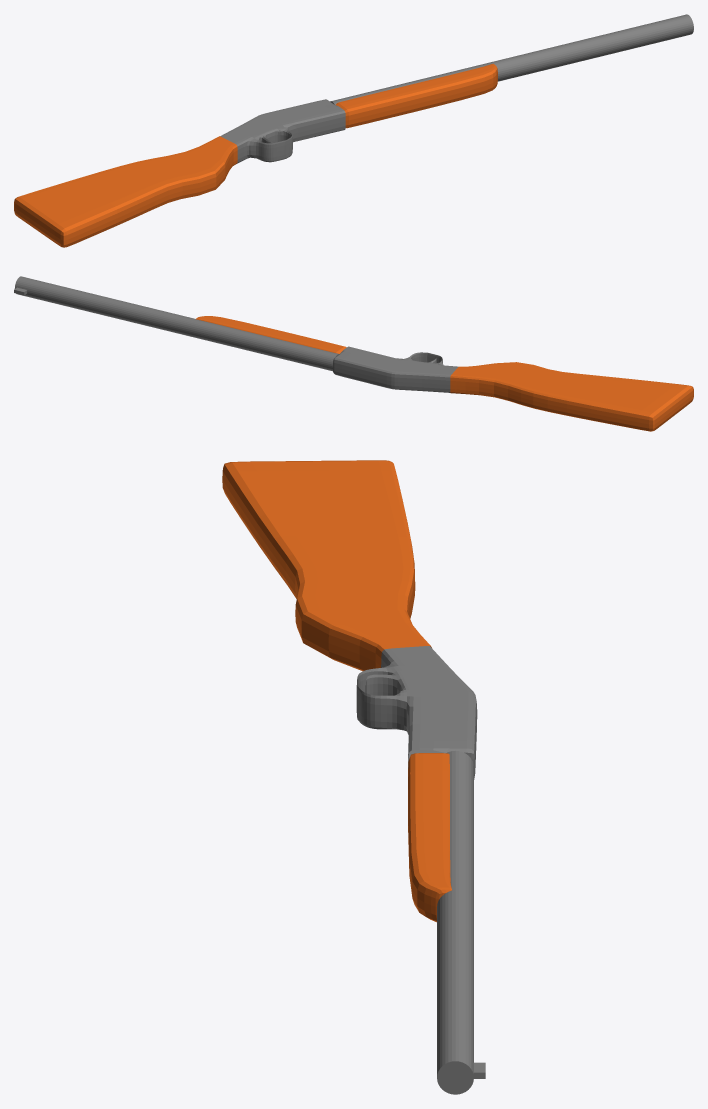
File: kivääri2_ready.fbx
The picture shows the model from 3 angles, top to bottom: view 1: azimuth 30°, elevation 25°; view 2: azimuth 150°, elevation 25°; view 3: azimuth 270°, elevation 25°; orthographic projection. The views are drawn at different scales.
Visible parts, largest first — view 1: Cube.004, Circle.001, Cube, Cube.003; view 2: Cube.004, Circle.001, Cube, Cube.003; view 3: Cube.004, Circle.001, Cube, Cube.003.
Part boxes in pixels (x1=…): Cube.004: x1=14, y1=136, x2=237, y2=247; Circle.001: x1=330, y1=14, x2=693, y2=104; Cube: x1=220, y1=99, x2=345, y2=163; Cube.003: x1=335, y1=63, x2=497, y2=128; Cube.004: x1=450, y1=362, x2=693, y2=431; Circle.001: x1=14, y1=276, x2=339, y2=371; Cube: x1=333, y1=346, x2=458, y2=392; Cube.003: x1=196, y1=316, x2=346, y2=353; Cube.004: x1=222, y1=460, x2=431, y2=671; Circle.001: x1=437, y1=750, x2=485, y2=1094; Cube: x1=356, y1=646, x2=477, y2=779; Cube.003: x1=408, y1=753, x2=451, y2=922.
Size of the model in its own units: 471 by 12.75 by 86.79.
